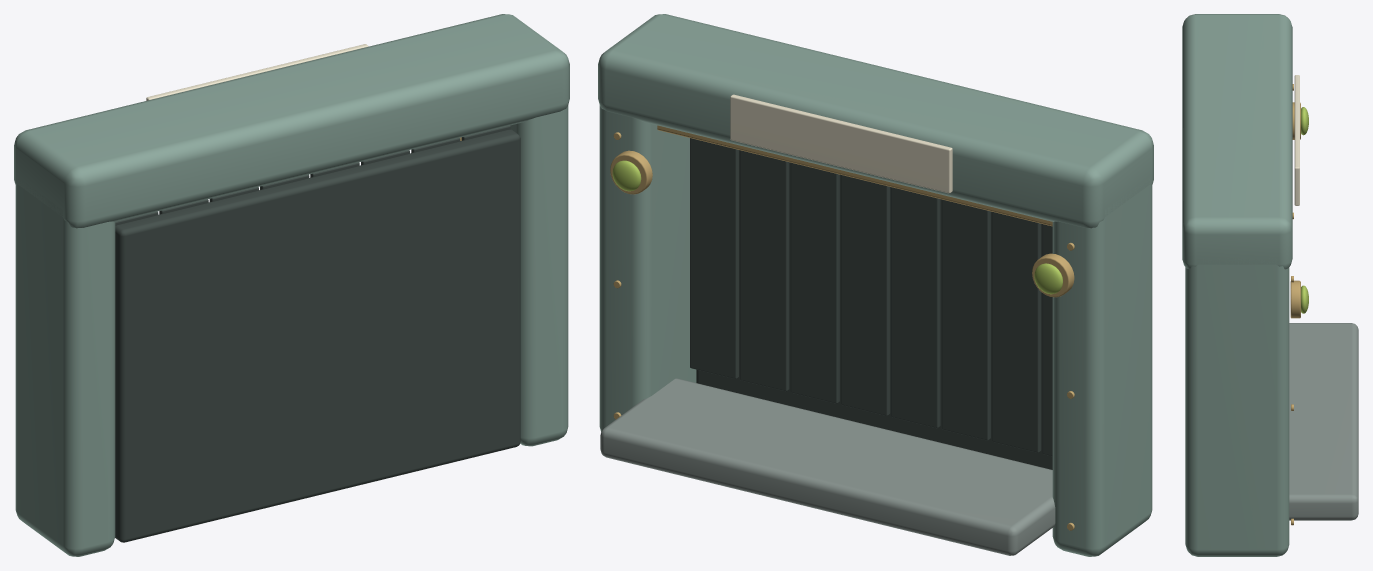
The model's file is dispatch.glb.
The picture shows the model from 3 angles, left to right: view 1: azimuth 30°, elevation 25°; view 2: azimuth 150°, elevation 25°; view 3: azimuth 270°, elevation 25°; orthographic projection. The views are drawn at different scales.
Visible parts, largest first — view 1: Surface Charcoal rubber.004, Surface Sage enamel.004, Address sign; view 2: Surface Sage enamel.004, Surface Charcoal rubber.004, Receiving lip, Address sign, Surface Worn brass.003, Surface Adhesive lime.004; view 3: Surface Sage enamel.004, Receiving lip, Address sign, Surface Worn brass.003, Surface Adhesive lime.004.
Part boxes in pixels (<box>): Surface Charcoal rubber.004: <box>115,125,520,542</box>; Surface Sage enamel.004: <box>14,14,569,556</box>; Address sign: <box>146,44,368,100</box>; Surface Sage enamel.004: <box>598,14,1153,556</box>; Surface Charcoal rubber.004: <box>690,138,1052,469</box>; Receiving lip: <box>600,378,1055,555</box>; Address sign: <box>730,94,952,193</box>; Surface Worn brass.003: <box>610,125,1074,530</box>; Surface Adhesive lime.004: <box>612,160,1062,294</box>; Surface Sage enamel.004: <box>1182,14,1292,556</box>; Receiving lip: <box>1289,323,1358,520</box>; Address sign: <box>1294,75,1299,205</box>; Surface Worn brass.003: <box>1290,84,1300,525</box>; Surface Adhesive lime.004: <box>1301,107,1308,313</box>.
Bounding box in the file's own units: 3.2 × 2.37 × 1.12.
